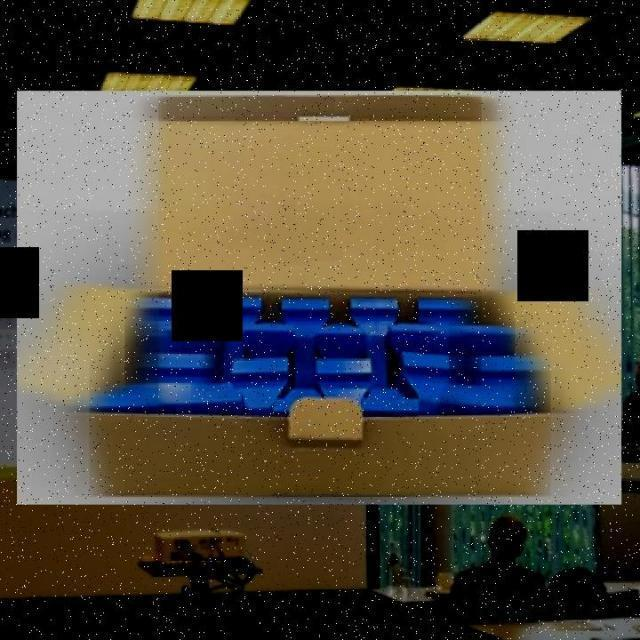box: (9, 85, 631, 512)
